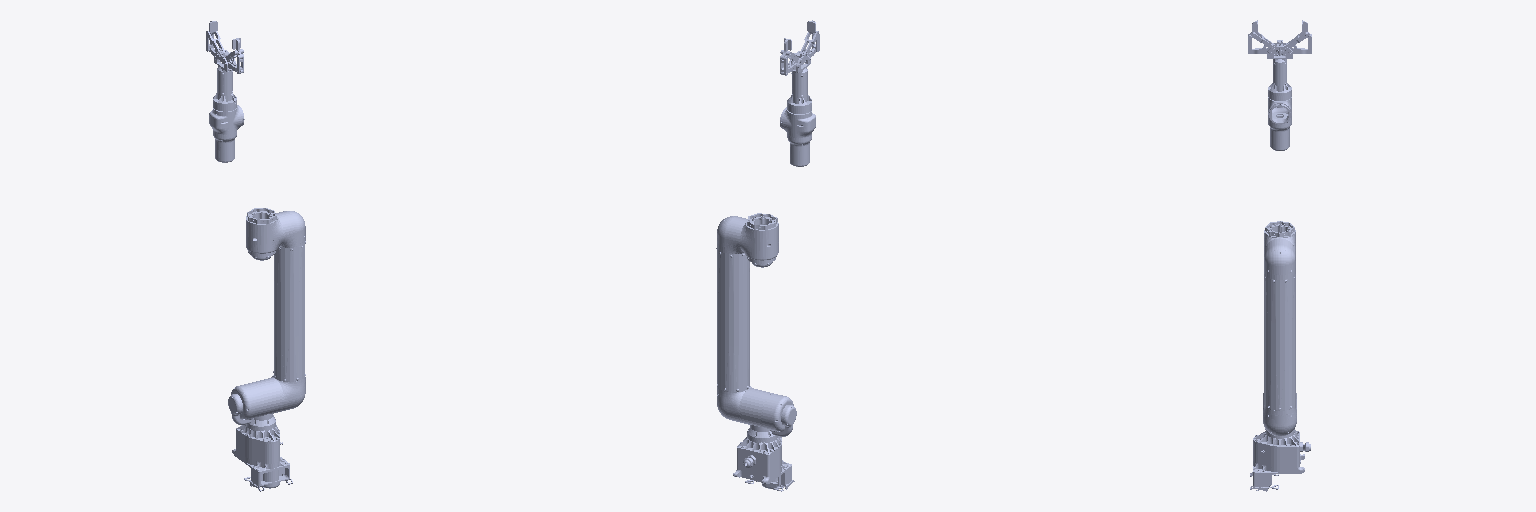
robot.urdf — mr1920_arm_urdf_export:
<?xml version="1.0" encoding="utf-8"?>
<!-- This URDF was automatically created by SolidWorks to URDF Exporter! Originally created by [author] ([email redacted]) 
     Commit Version: 1.5.1-0-g916b5db  Build Version: 1.5.7152.31018
     For more information, please see http://wiki.ros.org/sw_urdf_exporter -->
<robot
  name="mr1920_arm_urdf_export">


  <gazebo>
    <plugin name="ros_control" filename="libgazebo_ros_control.so" />
  </gazebo>

  <link name="world"/>
  <joint name="fixed_base" type="fixed">
    <origin rpy="0 0 0" xyz="0 0 0"/>
    <parent link="world"/>
    <child link="base_link"/>
  </joint>
  <link
    name="base_link">
    <inertial>
      <origin
        xyz="0.170127732931856 0.436279982851689 0.211462081788579"
        rpy="0 0 0" />
      <mass
        value="11.8959101300667" />
      <inertia
        ixx="1.46406252104376"
        ixy="-0.0570296205921714"
        ixz="-0.0108587418617453"
        iyy="0.31916144416613"
        iyz="-0.282001618806043"
        izz="1.21004138606907" />
    </inertial>
    <visual>
      <origin
        xyz="0 0 0"
        rpy="0 0 0" />
      <geometry>
        <mesh
          filename="package://rover_arm_description/meshes/base_link.STL" />
      </geometry>
      <material
        name="">
        <color
          rgba="0.792156862745098 0.819607843137255 0.933333333333333 1" />
      </material>
    </visual>
    <collision>
      <origin
        xyz="0 0 1.0"
        rpy="0 0 0" />
      <geometry>
        <mesh
          filename="package://rover_arm_description/meshes/base_link.STL" />
      </geometry>
    </collision>
  </link>
  <link
    name="shoulder">
    <inertial>
      <origin
        xyz="0.0322481709423136 0.322068900251137 0.0650112540872974"
        rpy="0 0 0" />
      <mass
        value="11.8959101300667" />
      <inertia
        ixx="1.45811837295066"
        ixy="-0.0894384984470032"
        ixz="-0.0399063732169981"
        iyy="0.31916144416613"
        iyz="-0.273455747113973"
        izz="1.21598553416217" />
    </inertial>
    <visual>
      <origin
        xyz="0 0 0"
        rpy="0 0 0" />
      <geometry>
        <mesh
          filename="package://rover_arm_description/meshes/shoulder.STL" />
      </geometry>
      <material
        name="">
        <color
          rgba="0.792156862745098 0.819607843137255 0.933333333333333 1" />
      </material>
    </visual>
    <collision>
      <origin
        xyz="0 0 0"
        rpy="0 0 0" />
      <geometry>
        <mesh
          filename="package://rover_arm_description/meshes/shoulder.STL" />
      </geometry>
    </collision>
  </link>
  <joint
    name="base_roll"
    type="revolute">
    <origin
      xyz="0.14566 -0.14314 0.11421"
      rpy="1.5708 0 0" />
    <parent
      link="base_link" />
    <child
      link="shoulder" />
    <axis
      xyz="0 1 0" />
    <limit lower="-3.14" upper="3.14" effort="150.0" velocity="3.15"/>
  </joint>
  <link
    name="upper_arm">
    <inertial>
      <origin
        xyz="0.0144800240228239 -0.0958264031550247 0.228736362470933"
        rpy="0 0 0" />
      <mass
        value="11.8959101300667" />
      <inertia
        ixx="1.45811837295066"
        ixy="0.0512875953774074"
        ixz="-0.0834346821663045"
        iyy="1.12948798516151"
        iyz="0.380617006078215"
        izz="0.40565899316679" />
    </inertial>
    <visual>
      <origin
        xyz="0 0 0"
        rpy="0 0 0" />
      <geometry>
        <mesh
          filename="package://rover_arm_description/meshes/upper_arm.STL" />
      </geometry>
      <material
        name="">
        <color
          rgba="0.792156862745098 0.819607843137255 0.933333333333333 1" />
      </material>
    </visual>
    <collision>
      <origin
        xyz="0 0 0"
        rpy="0 0 0" />
      <geometry>
        <mesh
          filename="package://rover_arm_description/meshes/upper_arm.STL" />
      </geometry>
    </collision>
  </link>
  <joint
    name="shoulder_pitch"
    type="revolute">
    <origin
      xyz="0.017768 0.082744 0"
      rpy="-1.5708 0 0" />
    <parent
      link="shoulder" />
    <child
      link="upper_arm" />
    <axis
      xyz="1 0 0" />
    <limit lower="-1.57" upper="1.57" effort="150.0" velocity="3.15"/>
  </joint>
  <link
    name="elbow">
    <inertial>
      <origin
        xyz="0.014480024022824 -0.301114395650102 0.073957891563733"
        rpy="0 0 0" />
      <mass
        value="11.8959101300667" />
      <inertia
        ixx="1.45811837295066"
        ixy="-0.0794516767842558"
        ixz="-0.0572642531074918"
        iyy="0.465184100930568"
        iyz="-0.429432259632049"
        izz="1.06996287739773" />
    </inertial>
    <visual>
      <origin
        xyz="0 0 0"
        rpy="0 0 0" />
      <geometry>
        <mesh
          filename="package://rover_arm_description/meshes/elbow.STL" />
      </geometry>
      <material
        name="">
        <color
          rgba="0.792156862745098 0.819607843137255 0.933333333333333 1" />
      </material>
    </visual>
    <collision>
      <origin
        xyz="0 0 0"
        rpy="0 0 0" />
      <geometry>
        <mesh
          filename="package://rover_arm_description/meshes/elbow.STL" />
      </geometry>
    </collision>
  </link>
  <joint
    name="elbow_pitch"
    type="revolute">
    <origin
      xyz="0 0 0.52362"
      rpy="0 0 0" />
    <parent
      link="upper_arm" />
    <child
      link="elbow" />
    <axis
      xyz="1 0 0" />
    <limit lower="-3.14" upper="3.14" effort="150.0" velocity="3.15"/>
  </joint>
  <link
    name="lower_arm">
    <inertial>
      <origin
        xyz="0.0298945481187236 -0.301196489380201 0.0384968731621654"
        rpy="0 0 0" />
      <mass
        value="11.8959101300667" />
      <inertia
        ixx="1.45768059602485"
        ixy="-0.0821404955446858"
        ixz="-0.0584274337510379"
        iyy="0.465621877856375"
        iyz="-0.429275547034669"
        izz="1.06996287739773" />
    </inertial>
    <visual>
      <origin
        xyz="0 0 0"
        rpy="0 0 0" />
      <geometry>
        <mesh
          filename="package://rover_arm_description/meshes/lower_arm.STL" />
      </geometry>
      <material
        name="">
        <color
          rgba="0.792156862745098 0.819607843137255 0.933333333333333 1" />
      </material>
    </visual>
    <collision>
      <origin
        xyz="0 0 0"
        rpy="0 0 0" />
      <geometry>
        <mesh
          filename="package://rover_arm_description/meshes/lower_arm.STL" />
      </geometry>
    </collision>
  </link>
  <joint
    name="elbow_roll"
    type="revolute">
    <origin
      xyz="-0.01623 0 0.035461"
      rpy="0 0 3.1416" />
    <parent
      link="elbow" />
    <child
      link="lower_arm" />
    <axis
      xyz="0 0 1" />
    <limit lower="-3.14" upper="3.14" effort="150.0" velocity="3.15"/>
  </joint>
  <link
    name="wrist">
    <inertial>
      <origin
        xyz="0.0227338507110884 0.334629591149215 -0.282280135583135"
        rpy="0 0 0" />
      <mass
        value="11.8959101300667" />
      <inertia
        ixx="1.45768059602485"
        ixy="-0.0881232960552545"
        ixz="0.0489398683632909"
        iyy="0.378286501030348"
        iyz="0.351951244223128"
        izz="1.15729825422376" />
    </inertial>
    <visual>
      <origin
        xyz="0 0 0"
        rpy="0 0 0" />
      <geometry>
        <mesh
          filename="package://rover_arm_description/meshes/wrist.STL" />
      </geometry>
      <material
        name="">
        <color
          rgba="0.792156862745098 0.819607843137255 0.933333333333333 1" />
      </material>
    </visual>
    <collision>
      <origin
        xyz="0 0 0"
        rpy="0 0 0" />
      <geometry>
        <mesh
          filename="package://rover_arm_description/meshes/wrist.STL" />
      </geometry>
    </collision>
  </link>
  <joint
    name="wrist_pitch"
    type="revolute">
    <origin
      xyz="0.052628 0 0.35621"
      rpy="0 0 3.1416" />
    <parent
      link="lower_arm" />
    <child
      link="wrist" />
    <axis
      xyz="1 0 0" />
    <limit lower="-3.14" upper="3.14" effort="150.0" velocity="3.15"/>
  </joint>
  <link
    name="gripper">
    <inertial>
      <origin
        xyz="-0.143779874198148 -0.335855430230703 0.315822421564397"
        rpy="0 0 0" />
      <mass
        value="11.8959101300667" />
      <inertia
        ixx="1.40292475538702"
        ixy="-0.104143862131174"
        ixz="0.252726421797617"
        iyy="1.15729825422376"
        iyz="0.339733491145671"
        izz="0.433042341668182" />
    </inertial>
    <visual>
      <origin
        xyz="0 0 0"
        rpy="0 0 0" />
      <geometry>
        <mesh
          filename="package://rover_arm_description/meshes/gripper.STL" />
      </geometry>
      <material
        name="">
        <color
          rgba="0.792156862745098 0.819607843137255 0.933333333333333 1" />
      </material>
    </visual>
    <collision>
      <origin
        xyz="0 0 0"
        rpy="0 0 0" />
      <geometry>
        <mesh
          filename="package://rover_arm_description/meshes/gripper.STL" />
      </geometry>
    </collision>
  </link>
  <joint
    name="wrist_roll"
    type="revolute">
    <origin
      xyz="-0.069133 0 0.053575"
      rpy="1.5708 0 -1.5708" />
    <parent
      link="wrist" />
    <child
      link="gripper" />
    <axis
      xyz="0 1 0" />
    <limit lower="-6.28" upper="6.28" effort="150.0" velocity="3.15"/>
  </joint>

  <transmission name="shoulder_pitch_trans">
    <type>transmission_interface/SimpleTransmission</type>
    <joint name="shoulder_pitch">
      <hardwareInterface>hardware_interface/PositionJointInterface</hardwareInterface>
    </joint>
    <actuator name="shoulder_pitch_motor">
      <mechanicalReduction>1</mechanicalReduction>
    </actuator>
  </transmission>

  <transmission name="elbow_pitch_trans">
    <type>transmission_interface/SimpleTransmission</type>
    <joint name="elbow_pitch">
      <hardwareInterface>hardware_interface/PositionJointInterface</hardwareInterface>
    </joint>
    <actuator name="elbow_pitch_motor">
      <mechanicalReduction>1</mechanicalReduction>
    </actuator>
  </transmission>

  <transmission name="elbow_roll_trans">
    <type>transmission_interface/SimpleTransmission</type>
    <joint name="elbow_roll">
      <hardwareInterface>hardware_interface/PositionJointInterface</hardwareInterface>
    </joint>
    <actuator name="elbow_roll_motor">
      <mechanicalReduction>1</mechanicalReduction>
    </actuator>
  </transmission>

  <transmission name="wrist_pitch_trans">
    <type>transmission_interface/SimpleTransmission</type>
    <joint name="wrist_pitch">
      <hardwareInterface>hardware_interface/PositionJointInterface</hardwareInterface>
    </joint>
    <actuator name="wrist_pitch_motor">
      <mechanicalReduction>1</mechanicalReduction>
    </actuator>
  </transmission>

  <transmission name="wrist_roll_trans">
    <type>transmission_interface/SimpleTransmission</type>
    <joint name="wrist_roll">
      <hardwareInterface>hardware_interface/PositionJointInterface</hardwareInterface>
    </joint>
    <actuator name="wrist_roll_motor">
      <mechanicalReduction>1</mechanicalReduction>
    </actuator>
  </transmission>

  <transmission name="base_roll_trans">
    <type>transmission_interface/SimpleTransmission</type>
    <joint name="base_roll">
      <hardwareInterface>hardware_interface/PositionJointInterface</hardwareInterface>
    </joint>
    <actuator name="base_roll_motor">
      <mechanicalReduction>1</mechanicalReduction>
    </actuator>
  </transmission>


</robot>

--- Facts derived from the render (not from the file) ---
3 views of the same robot in one strip: view 1: azimuth 30°, elevation 25°; view 2: azimuth 150°, elevation 25°; view 3: azimuth 270°, elevation 25° (orthographic).
Model mr1920_arm_urdf_export with 8 links and 7 joints (6 revolute, 1 fixed), rooted at world, posed every joint at zero.
Visible links, largest first — view 1: upper_arm, base_link, shoulder, gripper, elbow, wrist; view 2: upper_arm, shoulder, base_link, gripper, elbow, wrist; view 3: upper_arm, base_link, gripper, wrist, elbow.
Boxes of the visible links, x1,y1,x2,y2 form: upper_arm: [271, 211, 305, 411]; base_link: [232, 424, 292, 491]; shoulder: [228, 378, 283, 428]; gripper: [206, 21, 243, 105]; elbow: [246, 208, 283, 260]; wrist: [209, 102, 244, 162]; upper_arm: [716, 216, 751, 422]; shoulder: [739, 388, 796, 439]; base_link: [733, 435, 794, 491]; gripper: [780, 20, 819, 107]; elbow: [740, 213, 778, 267]; wrist: [780, 104, 815, 166]; upper_arm: [1263, 238, 1296, 435]; base_link: [1250, 430, 1310, 491]; gripper: [1248, 20, 1311, 95]; wrist: [1268, 92, 1291, 150]; elbow: [1264, 221, 1295, 250].
Bounding box of the posed robot: 0.3051 × 0.1901 × 1.45 m (x, y, z).
Meshes: 7 distinct files referenced, 6 mesh visuals loaded (6 binary STL); not drawn: 1 (reference not matched to a file when rendering).